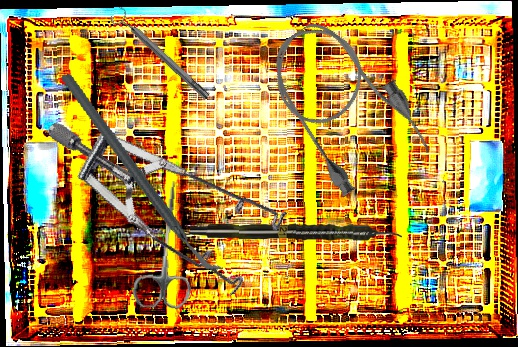Cannula: (251, 1, 440, 207)
Chopper: (60, 49, 225, 298)
Fixation Ring: (108, 4, 214, 106)
Handpiece: (189, 221, 403, 244)
Iris Scissors: (132, 178, 200, 311)
Speculum: (45, 49, 309, 336)
